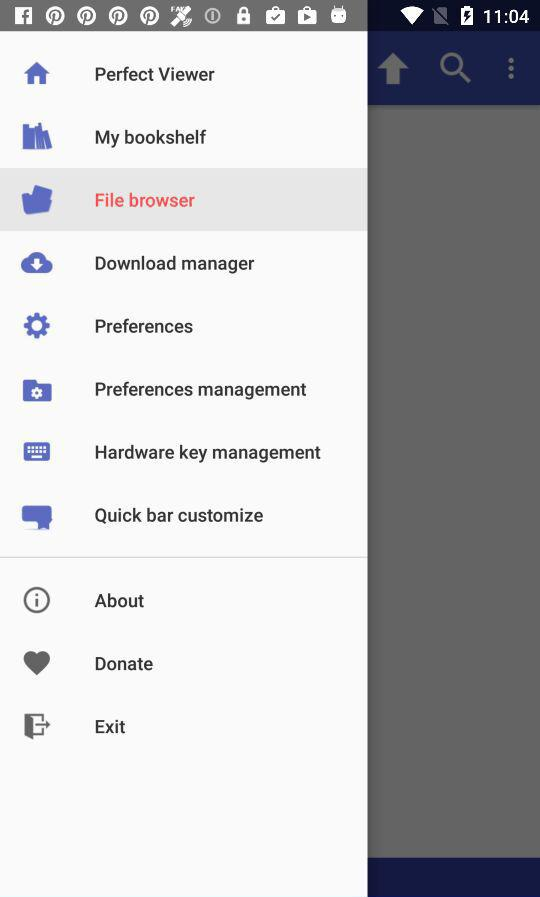Drawer: (1, 33, 368, 897)
Icon: (439, 52, 472, 86), (377, 53, 409, 86), (23, 586, 52, 614), (24, 312, 52, 340), (24, 713, 52, 740), (24, 650, 53, 676), (23, 379, 54, 403), (21, 252, 54, 274), (24, 62, 51, 86), (507, 58, 514, 80)
Image: (22, 184, 55, 216), (22, 122, 54, 151), (22, 505, 54, 531), (23, 441, 52, 462)
Text: (94, 443, 322, 464), (94, 379, 308, 401), (94, 254, 256, 276), (93, 506, 263, 525), (94, 128, 208, 150), (94, 66, 217, 84), (95, 191, 197, 210), (95, 317, 194, 336), (95, 656, 155, 672), (95, 593, 147, 610), (95, 718, 128, 735)
UpperTaskBar: (1, 1, 540, 33)
